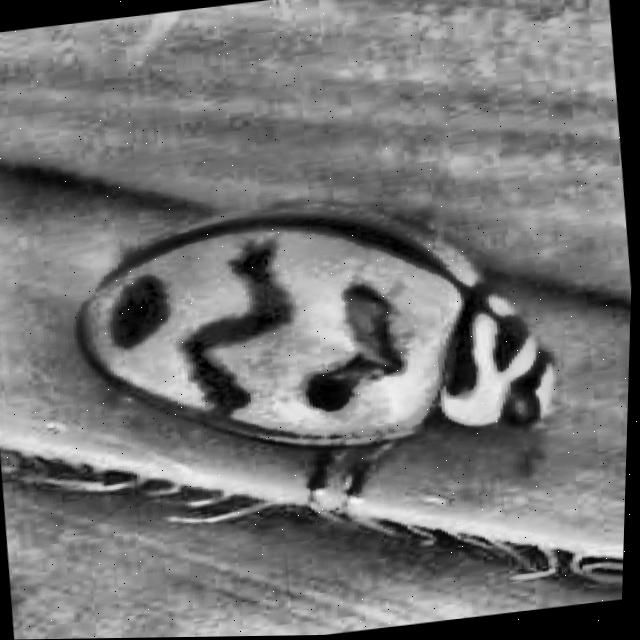Asian-Lady-beetle: (0, 135, 637, 616)
